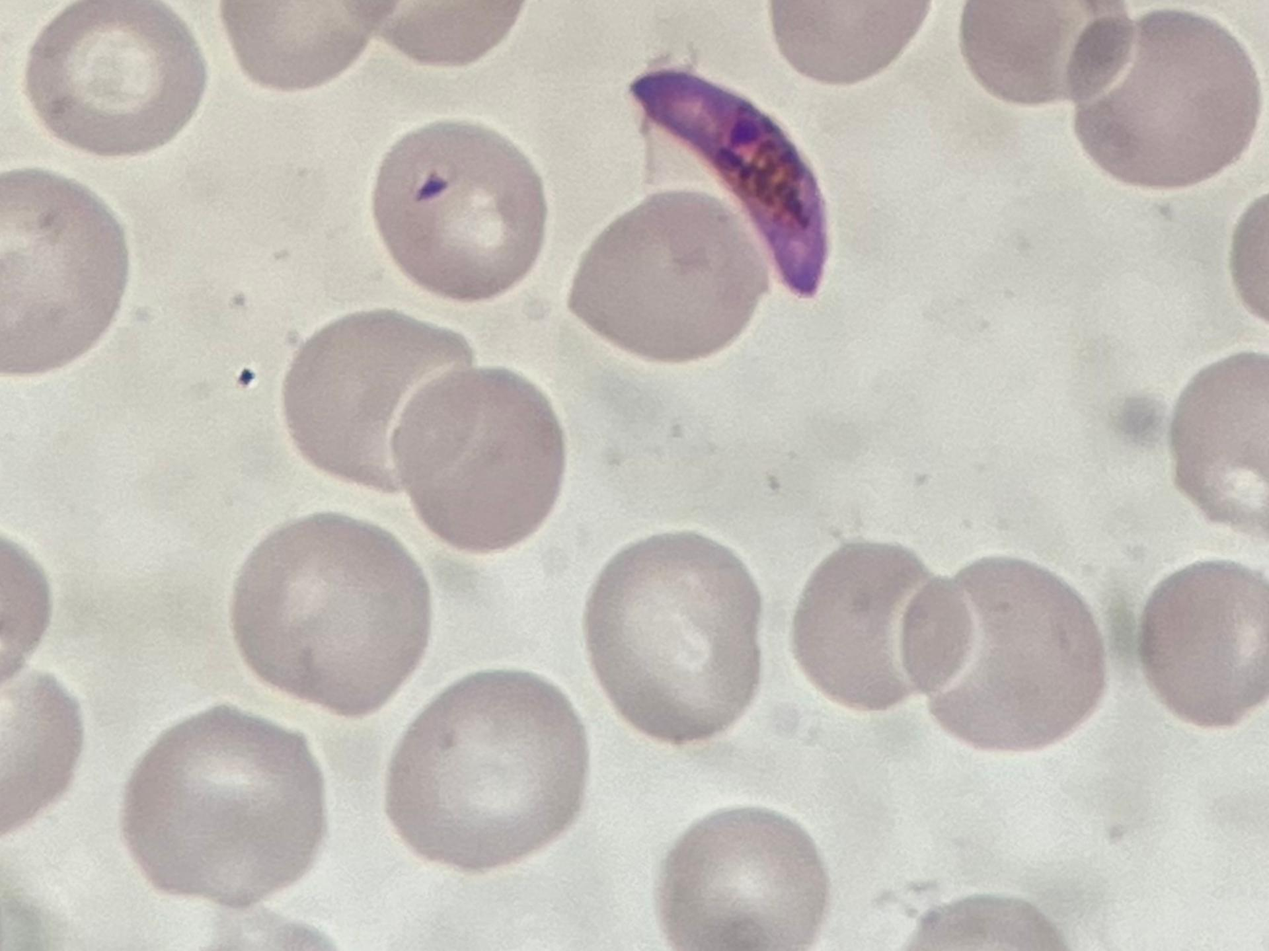Infected: (626, 65, 833, 298)
Uninfected: (119, 704, 325, 912), (383, 668, 588, 870), (897, 555, 1108, 751), (231, 513, 434, 714), (583, 529, 761, 746), (283, 311, 480, 491), (568, 189, 764, 366), (1071, 9, 1257, 191), (388, 364, 568, 549), (790, 541, 978, 715), (377, 121, 549, 303), (23, 0, 208, 159), (0, 171, 130, 372), (659, 807, 826, 951), (1138, 562, 1269, 728), (1168, 351, 1269, 535), (960, 0, 1133, 106), (225, 0, 391, 93)
